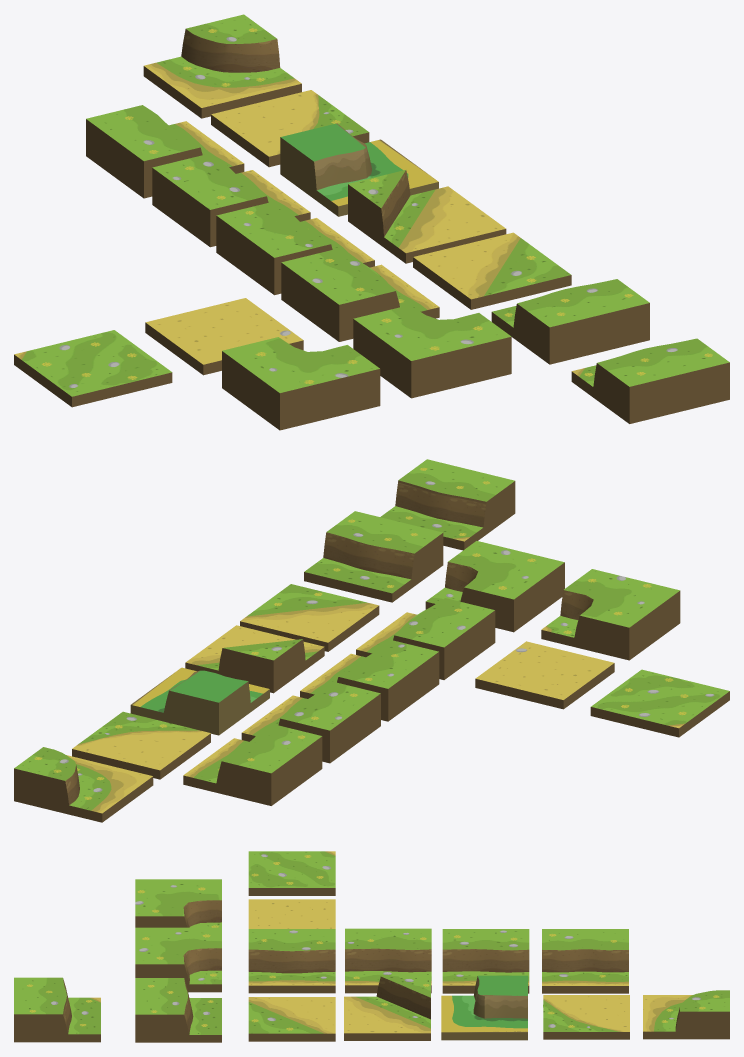
File: modulos.fbx
3 views of the same model, one above another, from view 1: azimuth 30°, elevation 25°; view 2: azimuth 150°, elevation 25°; view 3: azimuth 270°, elevation 25° (orthographic). The views are drawn at different scales.
Parts seen in each view (by area): view 1: polySurface186, polySurface179, polySurface189, polySurface190, polySurface176, polySurface178, polySurface181, polySurface177, polySurface180, polySurface187, polySurface182, polySurface184 (+3 smaller); view 2: polySurface176, polySurface186, polySurface190, polySurface179, polySurface182, polySurface189, polySurface187, polySurface180, polySurface188, polySurface183, polySurface184, polySurface185 (+3 smaller); view 3: polySurface181, polySurface182, polySurface187, polySurface190, polySurface179, polySurface178, polySurface176, polySurface185, polySurface184, polySurface186, polySurface189, polySurface177 (+3 smaller).
Boxes of the visible parts, x1,y1,x2,y2 form: polySurface186: (222,337,380,430); polySurface179: (353,305,511,398); polySurface189: (143,14,301,118); polySurface190: (571,338,729,423); polySurface176: (491,279,649,364); polySurface178: (348,170,506,263); polySurface181: (281,248,439,341); polySurface177: (413,232,571,309); polySurface180: (14,330,172,407); polySurface187: (280,123,438,216); polySurface182: (86,105,244,198); polySurface184: (152,153,310,247); polySurface176: (304,511,443,602); polySurface186: (541,569,680,660); polySurface190: (380,459,515,550); polySurface179: (425,541,564,632); polySurface182: (183,724,322,805); polySurface189: (14,747,153,822); polySurface187: (130,667,269,735); polySurface180: (590,669,729,737); polySurface188: (475,641,614,709); polySurface183: (72,711,210,779); polySurface184: (241,681,380,763); polySurface185: (300,639,439,721); polySurface181: (248,929,335,993); polySurface182: (542,929,628,993); polySurface187: (441,975,527,1040); polySurface190: (14,977,100,1042); polySurface179: (135,927,221,992); polySurface178: (344,976,430,1040); polySurface176: (135,978,221,1042); polySurface185: (345,928,431,993); polySurface184: (442,929,529,993); polySurface186: (135,879,221,927); polySurface189: (643,990,729,1039); polySurface177: (248,997,335,1041).
Size of the model in its own units: 3.91 by 0.2776 by 6.44.
